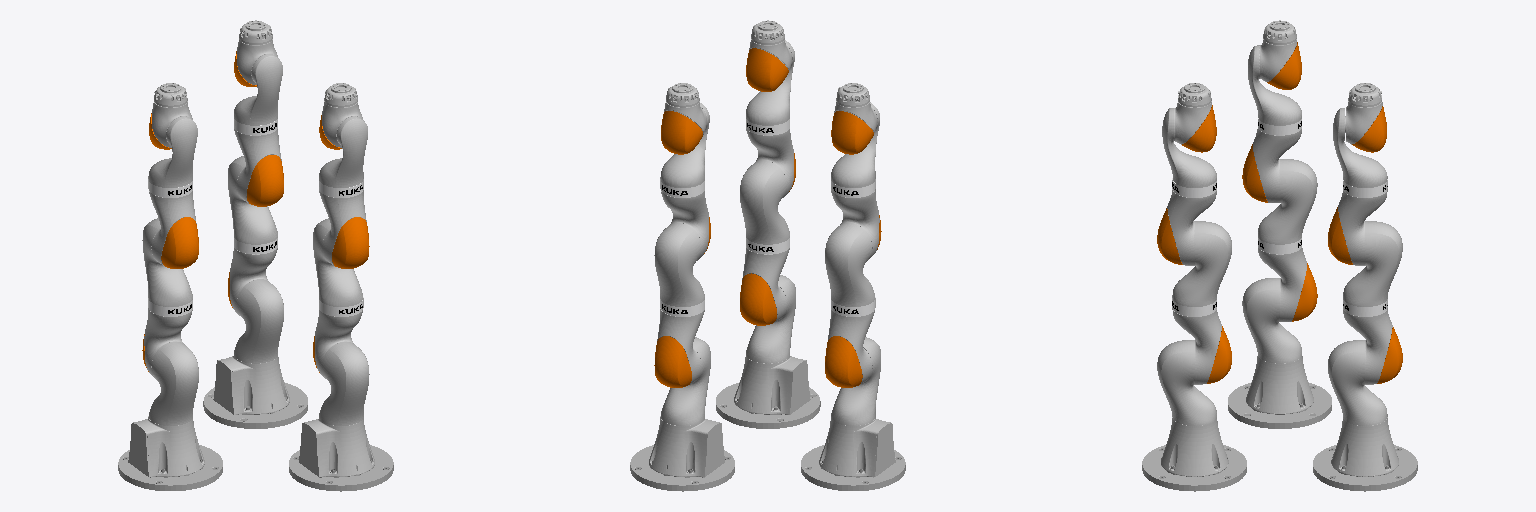
--- What the picture shows (computed from the rendered views, not written in the file) ---
The picture shows the robot from 3 angles, left to right: view 1: azimuth 30°, elevation 25°; view 2: azimuth 150°, elevation 25°; view 3: azimuth 270°, elevation 25°; orthographic projection.
Model main with 32 links and 31 joints (21 revolute, 10 fixed), rooted at world, posed every joint at zero.
Links seen in each view (by area): view 1: iiwa_link_0_r0, iiwa_link_0_r1, iiwa_link_0_r2, iiwa_link_1_r1, iiwa_link_1_r2, iiwa_link_1_r0, iiwa_link_4_r1, iiwa_link_4_r0, iiwa_link_4_r2, iiwa_link_5_r0, iiwa_link_5_r1, iiwa_link_5_r2 (+15 smaller); view 2: iiwa_link_3_r2, iiwa_link_3_r0, iiwa_link_3_r1, iiwa_link_0_r2, iiwa_link_0_r0, iiwa_link_0_r1, iiwa_link_2_r2, iiwa_link_2_r1, iiwa_link_2_r0, iiwa_link_1_r0, iiwa_link_1_r2, iiwa_link_1_r1 (+15 smaller); view 3: iiwa_link_3_r2, iiwa_link_3_r0, iiwa_link_3_r1, iiwa_link_1_r1, iiwa_link_1_r0, iiwa_link_1_r2, iiwa_link_0_r2, iiwa_link_0_r0, iiwa_link_0_r1, iiwa_link_2_r2, iiwa_link_4_r1, iiwa_link_2_r0 (+15 smaller).
Boxes of the visible links, box(x1,y1,x2,y2) form: iiwa_link_0_r0: box(128, 416, 204, 477); iiwa_link_0_r1: box(299, 417, 374, 477); iiwa_link_0_r2: box(213, 356, 289, 414); iiwa_link_1_r1: box(319, 342, 369, 425); iiwa_link_1_r2: box(234, 279, 283, 363); iiwa_link_1_r0: box(149, 342, 198, 425); iiwa_link_4_r1: box(319, 189, 369, 268); iiwa_link_4_r0: box(149, 191, 198, 268); iiwa_link_4_r2: box(234, 129, 283, 206); iiwa_link_5_r0: box(148, 116, 197, 197); iiwa_link_5_r1: box(319, 116, 367, 197); iiwa_link_5_r2: box(234, 54, 282, 135); iiwa_link_3_r2: box(654, 223, 704, 316); iiwa_link_3_r0: box(825, 223, 875, 316); iiwa_link_3_r1: box(740, 160, 789, 254); iiwa_link_0_r2: box(649, 416, 724, 477); iiwa_link_0_r0: box(819, 417, 895, 477); iiwa_link_0_r1: box(734, 356, 810, 414); iiwa_link_2_r2: box(654, 308, 704, 387); iiwa_link_2_r1: box(740, 248, 789, 325); iiwa_link_2_r0: box(825, 310, 874, 387); iiwa_link_1_r0: box(831, 337, 880, 425); iiwa_link_1_r2: box(661, 337, 710, 425); iiwa_link_1_r1: box(746, 275, 795, 363); iiwa_link_3_r2: box(1343, 221, 1402, 316); iiwa_link_3_r0: box(1258, 159, 1317, 254); iiwa_link_3_r1: box(1172, 221, 1231, 316); iiwa_link_1_r1: box(1157, 340, 1216, 425); iiwa_link_1_r0: box(1242, 278, 1301, 363); iiwa_link_1_r2: box(1328, 340, 1387, 425); iiwa_link_0_r2: box(1331, 417, 1398, 476); iiwa_link_0_r0: box(1246, 356, 1313, 414); iiwa_link_0_r1: box(1161, 417, 1228, 476); iiwa_link_2_r2: box(1343, 308, 1402, 384); iiwa_link_4_r1: box(1157, 189, 1216, 265); iiwa_link_2_r0: box(1258, 248, 1317, 321).
Bounding box of the posed robot: 0.77 × 0.84 × 1.29 m (x, y, z).
27 mesh visuals loaded from 10 distinct referenced files (9 Collada DAE); not drawn: 1 (reference not matched to a file when rendering).

URDF robot description (main):
<?xml version="1.0" ?>
<robot name="main">
  <link name="world"/>
  <joint name="table_joint" type="fixed">
    <parent link="world"/>
    <child link="table"/>
    <origin rpy="0 0 0" xyz="0 0 0"/>
  </joint>
  <link name="table">
    <inertial>
      <origin rpy="0 0 0" xyz="0 0 -0.18746"/>
      <mass value="600"/>
      <inertia ixx="152.284" ixy="0" ixz="0" iyy="207.558" iyz="0" izz="288.142"/>
    </inertial>
    <visual>
      <origin rpy="0 0 1.5707963267948966" xyz="0 0 0"/>
      <geometry>
        <mesh filename="package://safemotions/description/meshes/misc/visual/table.dae"/>
      </geometry>
    </visual>
    <collision>
      <origin rpy="0 0 0" xyz="0 0 -0.1"/>
      <geometry>
        <box size="1.2 1.6 0.2"/>
      </geometry>
    </collision>
  </link>
  <joint name="base_adapter_joint_r0" type="fixed">
    <parent link="world"/>
    <child link="iiwa_base_adapter_r0"/>
    <origin rpy="0 0 0" xyz="-0.3 0.0 0"/>
  </joint>
  <link name="iiwa_base_adapter_r0">
    <inertial>
      <origin rpy="0 0 0" xyz="0 0 0"/>
      <mass value="1"/>
      <inertia ixx="1" ixy="0" ixz="0" iyy="1" iyz="0" izz="1"/>
    </inertial>
    <visual>
      <origin rpy="0 0 0" xyz="0 0 0"/>
      <geometry>
        <mesh filename="package://safemotions/description/meshes/misc/visual/base_adapter.dae"/>
      </geometry>
    </visual>
    <collision>
      <origin rpy="0 0 0" xyz="0 0 0.01"/>
      <geometry>
        <cylinder length="0.02" radius="0.16"/>
      </geometry>
    </collision>
  </link>
  <joint name="iiwa_base_adapter_iiwa_joint_r0" type="fixed">
    <origin rpy="0 0 0" xyz="0 0 0.02"/>
    <parent link="iiwa_base_adapter_r0"/>
    <child link="iiwa_link_0_r0"/>
  </joint>
  <link name="iiwa_link_0_r0">
    <inertial>
      <origin rpy="0 0 0" xyz="-0.01 0 0.07"/>
      <mass value="5"/>
      <inertia ixx="0.05" ixy="0" ixz="0" iyy="0.06" iyz="0" izz="0.03"/>
    </inertial>
    <visual>
      <geometry>
        <mesh filename="package://safemotions/description/meshes/iiwa7/visual/base.dae"/>
      </geometry>
    </visual>
    <collision>
      <geometry>
        <mesh filename="package://safemotions/description/meshes/iiwa7/collision/base.stl"/>
      </geometry>
    </collision>
    <self_collision_checking>
      <origin rpy="0 0 0" xyz="0 0 0"/>
      <geometry>
        <capsule length="0.25" radius="0.15"/>
      </geometry>
    </self_collision_checking>
  </link>
  <joint name="iiwa_joint_1_r0" type="revolute">
    <parent link="iiwa_link_0_r0"/>
    <child link="iiwa_link_1_r0"/>
    <origin rpy="0 0 0" xyz="0 0 0.157"/>
    <axis xyz="0 0 1"/>
    <limit effort="176" lower="-2.9670597283903604" upper="2.9670597283903604" velocity="1.710422666954443"/>
    <safety_controller k_position="100" k_velocity="2" soft_lower_limit="-2.9321531433504737" soft_upper_limit="2.9321531433504737"/>
    <dynamics damping="0.5"/>
  </joint>
  <link name="iiwa_link_1_r0">
    <inertial>
      <origin rpy="0 0 0" xyz="0 -0.03 0.12"/>
      <mass value="3.4525"/>
      <inertia ixx="0.02183" ixy="0" ixz="0" iyy="0.02081" iyz="0.003883" izz="0.007697"/>
    </inertial>
    <visual>
      <geometry>
        <mesh filename="package://safemotions/description/meshes/iiwa7/visual/link1.dae"/>
      </geometry>
    </visual>
    <collision>
      <geometry>
        <mesh filename="package://safemotions/description/meshes/iiwa7/collision/link1.stl"/>
      </geometry>
    </collision>
  </link>
  <joint name="iiwa_joint_2_r0" type="revolute">
    <parent link="iiwa_link_1_r0"/>
    <child link="iiwa_link_2_r0"/>
    <origin rpy="0 0 0" xyz="0 0 0.183"/>
    <axis xyz="0 1 0"/>
    <limit effort="176" lower="-2.0943951023931953" upper="2.0943951023931953" velocity="1.710422666954443"/>
    <safety_controller k_position="100" k_velocity="2" soft_lower_limit="-2.0594885173533086" soft_upper_limit="2.0594885173533086"/>
    <dynamics damping="0.5"/>
  </joint>
  <link name="iiwa_link_2_r0">
    <inertial>
      <origin rpy="0 0 0" xyz="0.000 0.034417 0.0673286"/>
      <mass value="3.4821"/>
      <inertia ixx="0.02177" ixy="0" ixz="0.00" iyy="0.02075" iyz="0.003621" izz="0.00779"/>
    </inertial>
    <visual>
      <geometry>
        <mesh filename="package://safemotions/description/meshes/iiwa7/visual/link2.dae"/>
      </geometry>
    </visual>
    <collision>
      <geometry>
        <mesh filename="package://safemotions/description/meshes/iiwa7/collision/link2.stl"/>
      </geometry>
    </collision>
  </link>
  <joint name="iiwa_joint_3_r0" type="revolute">
    <parent link="iiwa_link_2_r0"/>
    <child link="iiwa_link_3_r0"/>
    <origin rpy="0 0 0" xyz="0 0 0.185"/>
    <axis xyz="0 0 1"/>
    <limit effort="110" lower="-2.9670597283903604" upper="2.9670597283903604" velocity="1.7453292519943295"/>
    <safety_controller k_position="100" k_velocity="2" soft_lower_limit="-2.9321531433504737" soft_upper_limit="2.9321531433504737"/>
    <dynamics damping="0.5"/>
  </joint>
  <link name="iiwa_link_3_r0">
    <inertial>
      <origin rpy="0 0 0" xyz="0 0.0295 0.1258"/>
      <mass value="4.05623"/>
      <inertia ixx="0.03204" ixy="0" ixz="0" iyy="0.03044" iyz="-0.006231" izz="0.009726"/>
    </inertial>
    <visual>
      <geometry>
        <mesh filename="package://safemotions/description/meshes/iiwa7/visual/link3.dae"/>
      </geometry>
    </visual>
    <collision>
      <geometry>
        <mesh filename="package://safemotions/description/meshes/iiwa7/collision/link3.stl"/>
      </geometry>
    </collision>
  </link>
  <joint name="iiwa_joint_4_r0" type="revolute">
    <parent link="iiwa_link_3_r0"/>
    <child link="iiwa_link_4_r0"/>
    <origin rpy="0 0 0" xyz="0 0 0.215"/>
    <axis xyz="0 -1 0"/>
    <limit effort="110" lower="-2.0943951023931953" upper="2.0943951023931953" velocity="2.2689280275926285"/>
    <safety_controller k_position="100" k_velocity="2" soft_lower_limit="-2.0594885173533086" soft_upper_limit="2.0594885173533086"/>
    <dynamics damping="0.5"/>
  </joint>
  <link name="iiwa_link_4_r0">
    <inertial>
      <origin rpy="0 0 0" xyz="0 -0.034 0.067"/>
      <mass value="3.4822"/>
      <inertia ixx="0.021775" ixy="0" ixz="0" iyy="0.02075" iyz="-0.003621" izz="0.007783"/>
    </inertial>
    <visual>
      <geometry>
        <mesh filename="package://safemotions/description/meshes/iiwa7/visual/link4.dae"/>
      </geometry>
    </visual>
    <collision>
      <geometry>
        <mesh filename="package://safemotions/description/meshes/iiwa7/collision/link4.stl"/>
      </geometry>
    </collision>
  </link>
  <joint name="iiwa_joint_5_r0" type="revolute">
    <parent link="iiwa_link_4_r0"/>
    <child link="iiwa_link_5_r0"/>
    <origin rpy="0 0 0" xyz="0 0 0.4"/>
    <axis xyz="0 0 1"/>
    <limit effort="110" lower="-2.9670597283903604" upper="2.9670597283903604" velocity="2.443460952792061"/>
    <safety_controller k_position="100" k_velocity="2" soft_lower_limit="-2.9321531433504737" soft_upper_limit="2.9321531433504737"/>
    <dynamics damping="0.5"/>
  </joint>
  <link name="iiwa_link_5_r0">
    <inertial>
      <origin rpy="0 0 0" xyz="0.0001 -0.02263 -0.1365"/>
      <mass value="2.1633"/>
      <inertia ixx="0.01287" ixy="0" ixz="0" iyy="0.01112" iyz="0.003943" izz="0.0057128"/>
    </inertial>
    <visual>
      <geometry>
        <mesh filename="package://safemotions/description/meshes/iiwa7/visual/link5.dae"/>
      </geometry>
    </visual>
    <collision>
      <geometry>
        <mesh filename="package://safemotions/description/meshes/iiwa7/collision/link5.stl"/>
      </geometry>
    </collision>
  </link>
  <joint name="iiwa_joint_6_r0" type="revolute">
    <parent link="iiwa_link_5_r0"/>
    <child link="iiwa_link_6_r0"/>
    <origin rpy="0 0 0" xyz="0 0 0"/>
    <axis xyz="0 1 0"/>
    <limit effort="40" lower="-2.0943951023931953" upper="2.0943951023931953" velocity="3.141592653589793"/>
    <safety_controller k_position="100" k_velocity="2" soft_lower_limit="-2.0594885173533086" soft_upper_limit="2.0594885173533086"/>
    <dynamics damping="0.5"/>
  </joint>
  <link name="iiwa_link_6_r0">
    <inertial>
      <origin rpy="0 0 0" xyz="0 0.00047 0.002124"/>
      <mass value="2.3466"/>
      <inertia ixx="0.006522" ixy="0" ixz="0" iyy="0.006270" iyz="0.00032280" izz="0.0045345"/>
    </inertial>
    <visual>
      <geometry>
        <mesh filename="package://safemotions/description/meshes/iiwa7/visual/link6.dae"/>
      </geometry>
    </visual>
    <collision>
      <geometry>
        <mesh filename="package://safemotions/description/meshes/iiwa7/collision/link6.stl"/>
      </geometry>
    </collision>
  </link>
  <joint name="iiwa_joint_7_r0" type="revolute">
    <parent link="iiwa_link_6_r0"/>
    <child link="iiwa_link_7_r0"/>
    <origin rpy="0 0 0" xyz="0 0 0"/>
    <axis xyz="0 0 1"/>
    <limit effort="40" lower="-3.0543261909900763" upper="3.0543261909900763" velocity="3.141592653589793"/>
    <safety_controller k_position="100" k_velocity="2" soft_lower_limit="-3.01941960595019" soft_upper_limit="3.01941960595019"/>
    <dynamics damping="0.5"/>
  </joint>
  <link name="iiwa_link_7_r0">
    <inertial>
      <origin rpy="0 0 0" xyz="0 0 0.1"/>
      <mass value="3.129"/>
      <inertia ixx="0.0022711" ixy="0.0000221" ixz="0" iyy="0.0022807" iyz="0" izz="0.002872"/>
    </inertial>
    <visual>
      <geometry>
        <mesh filename="package://safemotions/description/meshes/iiwa7/visual/link7.dae"/>
      </geometry>
    </visual>
    <collision>
      <geometry>
        <mesh filename="package://safemotions/description/meshes/iiwa7/collision/link7.stl"/>
      </geometry>
    </collision>
  </link>
  <joint name="iiwa_joint_ee_r0" type="fixed">
    <parent link="iiwa_link_7_r0"/>
    <child link="iiwa_link_ee_r0"/>
    <origin rpy="0 0 0" xyz="0 0 0.126"/>
  </joint>
  <link name="iiwa_link_ee_r0">
    <inertial>
      <origin rpy="0 0 0" xyz="0 0 0"/>
      <mass value="1"/>
      <inertia ixx="1" ixy="0" ixz="0" iyy="1" iyz="0" izz="1"/>
    </inertial>
  </link>
<!-- second robot -->
<joint name="base_adapter_joint_r1" type="fixed">
    <parent link="world"/>
    <child link="iiwa_base_adapter_r1"/>
    <origin rpy="0 0 0" xyz="0.15 -0.26 0"/>
  </joint>
  <link name="iiwa_base_adapter_r1">
    <inertial>
      <origin rpy="0 0 0" xyz="0 0 0"/>
      <mass value="1"/>
      <inertia ixx="1" ixy="0" ixz="0" iyy="1" iyz="0" izz="1"/>
    </inertial>
    <visual>
      <origin rpy="0 0 0" xyz="0 0 0"/>
      <geometry>
        <mesh filename="package://safemotions/description/meshes/misc/visual/base_adapter.dae"/>
      </geometry>
    </visual>
    <collision>
      <origin rpy="0 0 0" xyz="0 0 0.01"/>
      <geometry>
        <cylinder length="0.02" radius="0.16"/>
      </geometry>
    </collision>
  </link>
  <joint name="iiwa_base_adapter_iiwa_joint_r1" type="fixed">
    <origin rpy="0 0 0" xyz="0 0 0.02"/>
    <parent link="iiwa_base_adapter_r1"/>
    <child link="iiwa_link_0_r1"/>
  </joint>
  <link name="iiwa_link_0_r1">
    <inertial>
      <origin rpy="0 0 0" xyz="-0.01 0 0.07"/>
      <mass value="5"/>
      <inertia ixx="0.05" ixy="0" ixz="0" iyy="0.06" iyz="0" izz="0.03"/>
    </inertial>
    <visual>
      <geometry>
        <mesh filename="package://safemotions/description/meshes/iiwa7/visual/base.dae"/>
      </geometry>
    </visual>
    <collision>
      <geometry>
        <mesh filename="package://safemotions/description/meshes/iiwa7/collision/base.stl"/>
      </geometry>
    </collision>
    <self_collision_checking>
      <origin rpy="0 0 0" xyz="0 0 0"/>
      <geometry>
        <capsule length="0.25" radius="0.15"/>
      </geometry>
    </self_collision_checking>
  </link>
  <joint name="iiwa_joint_1_r1" type="revolute">
    <parent link="iiwa_link_0_r1"/>
    <child link="iiwa_link_1_r1"/>
    <origin rpy="0 0 0" xyz="0 0 0.157"/>
    <axis xyz="0 0 1"/>
    <limit effort="176" lower="-2.9670597283903604" upper="2.9670597283903604" velocity="1.710422666954443"/>
    <safety_controller k_position="100" k_velocity="2" soft_lower_limit="-2.9321531433504737" soft_upper_limit="2.9321531433504737"/>
    <dynamics damping="0.5"/>
  </joint>
  <link name="iiwa_link_1_r1">
    <inertial>
      <origin rpy="0 0 0" xyz="0 -0.03 0.12"/>
      <mass value="3.4525"/>
      <inertia ixx="0.02183" ixy="0" ixz="0" iyy="0.02081" iyz="0.003883" izz="0.007697"/>
    </inertial>
    <visual>
      <geometry>
        <mesh filename="package://safemotions/description/meshes/iiwa7/visual/link1.dae"/>
      </geometry>
    </visual>
    <collision>
      <geometry>
        <mesh filename="package://safemotions/description/meshes/iiwa7/collision/link1.stl"/>
      </geometry>
    </collision>
  </link>
  <joint name="iiwa_joint_2_r1" type="revolute">
    <parent link="iiwa_link_1_r1"/>
    <child link="iiwa_link_2_r1"/>
    <origin rpy="0 0 0" xyz="0 0 0.183"/>
    <axis xyz="0 1 0"/>
    <limit effort="176" lower="-2.0943951023931953" upper="2.0943951023931953" velocity="1.710422666954443"/>
    <safety_controller k_position="100" k_velocity="2" soft_lower_limit="-2.0594885173533086" soft_upper_limit="2.0594885173533086"/>
    <dynamics damping="0.5"/>
  </joint>
  <link name="iiwa_link_2_r1">
    <inertial>
      <origin rpy="0 0 0" xyz="0.000 0.034417 0.0673286"/>
      <mass value="3.4821"/>
      <inertia ixx="0.02177" ixy="0" ixz="0.00" iyy="0.02075" iyz="0.003621" izz="0.00779"/>
    </inertial>
    <visual>
      <geometry>
        <mesh filename="package://safemotions/description/meshes/iiwa7/visual/link2.dae"/>
      </geometry>
    </visual>
    <collision>
      <geometry>
        <mesh filename="package://safemotions/description/meshes/iiwa7/collision/link2.stl"/>
      </geometry>
    </collision>
  </link>
  <joint name="iiwa_joint_3_r1" type="revolute">
    <parent link="iiwa_link_2_r1"/>
    <child link="iiwa_link_3_r1"/>
    <origin rpy="0 0 0" xyz="0 0 0.185"/>
    <axis xyz="0 0 1"/>
    <limit effort="110" lower="-2.9670597283903604" upper="2.9670597283903604" velocity="1.7453292519943295"/>
    <safety_controller k_position="100" k_velocity="2" soft_lower_limit="-2.9321531433504737" soft_upper_limit="2.9321531433504737"/>
    <dynamics damping="0.5"/>
  </joint>
  <link name="iiwa_link_3_r1">
    <inertial>
      <origin rpy="0 0 0" xyz="0 0.0295 0.1258"/>
      <mass value="4.05623"/>
      <inertia ixx="0.03204" ixy="0" ixz="0" iyy="0.03044" iyz="-0.006231" izz="0.009726"/>
    </inertial>
    <visual>
      <geometry>
        <mesh filename="package://safemotions/description/meshes/iiwa7/visual/link3.dae"/>
      </geometry>
    </visual>
    <collision>
      <geometry>
        <mesh filename="package://safemotions/description/meshes/iiwa7/collision/link3.stl"/>
      </geometry>
    </collision>
  </link>
  <joint name="iiwa_joint_4_r1" type="revolute">
    <parent link="iiwa_link_3_r1"/>
    <child link="iiwa_link_4_r1"/>
    <origin rpy="0 0 0" xyz="0 0 0.215"/>
    <axis xyz="0 -1 0"/>
    <limit effort="110" lower="-2.0943951023931953" upper="2.0943951023931953" velocity="2.2689280275926285"/>
    <safety_controller k_position="100" k_velocity="2" soft_lower_limit="-2.0594885173533086" soft_upper_limit="2.0594885173533086"/>
    <dynamics damping="0.5"/>
  </joint>
  <link name="iiwa_link_4_r1">
    <inertial>
      <origin rpy="0 0 0" xyz="0 -0.034 0.067"/>
      <mass value="3.4822"/>
      <inertia ixx="0.021775" ixy="0" ixz="0" iyy="0.02075" iyz="-0.003621" izz="0.007783"/>
    </inertial>
    <visual>
      <geometry>
        <mesh filename="package://safemotions/description/meshes/iiwa7/visual/link4.dae"/>
      </geometry>
    </visual>
    <collision>
      <geometry>
        <mesh filename="package://safemotions/description/meshes/iiwa7/collision/link4.stl"/>
      </geometry>
    </collision>
  </link>
  <joint name="iiwa_joint_5_r1" type="revolute">
    <parent link="iiwa_link_4_r1"/>
    <child link="iiwa_link_5_r1"/>
    <origin rpy="0 0 0" xyz="0 0 0.4"/>
    <axis xyz="0 0 1"/>
    <limit effort="110" lower="-2.9670597283903604" upper="2.9670597283903604" velocity="2.443460952792061"/>
    <safety_controller k_position="100" k_velocity="2" soft_lower_limit="-2.9321531433504737" soft_upper_limit="2.9321531433504737"/>
    <dynamics damping="0.5"/>
  </joint>
  <link name="iiwa_link_5_r1">
    <inertial>
      <origin rpy="0 0 0" xyz="0.0001 -0.02263 -0.1365"/>
      <mass value="2.1633"/>
      <inertia ixx="0.01287" ixy="0" ixz="0" iyy="0.01112" iyz="0.003943" izz="0.0057128"/>
    </inertial>
    <visual>
      <geometry>
        <mesh filename="package://safemotions/description/meshes/iiwa7/visual/link5.dae"/>
      </geometry>
    </visual>
    <collision>
      <geometry>
        <mesh filename="package://safemotions/description/meshes/iiwa7/collision/link5.stl"/>
      </geometry>
    </collision>
  </link>
  <joint name="iiwa_joint_6_r1" type="revolute">
    <parent link="iiwa_link_5_r1"/>
    <child link="iiwa_link_6_r1"/>
    <origin rpy="0 0 0" xyz="0 0 0"/>
    <axis xyz="0 1 0"/>
    <limit effort="40" lower="-2.0943951023931953" upper="2.0943951023931953" velocity="3.141592653589793"/>
    <safety_controller k_position="100" k_velocity="2" soft_lower_limit="-2.0594885173533086" soft_upper_limit="2.0594885173533086"/>
    <dynamics damping="0.5"/>
  </joint>
  <link name="iiwa_link_6_r1">
    <inertial>
      <origin rpy="0 0 0" xyz="0 0.00047 0.002124"/>
      <mass value="2.3466"/>
      <inertia ixx="0.006522" ixy="0" ixz="0" iyy="0.006270" iyz="0.00032280" izz="0.0045345"/>
    </inertial>
    <visual>
      <geometry>
        <mesh filename="package://safemotions/description/meshes/iiwa7/visual/link6.dae"/>
      </geometry>
    </visual>
    <collision>
      <geometry>
        <mesh filename="package://safemotions/description/meshes/iiwa7/collision/link6.stl"/>
      </geometry>
    </collision>
  </link>
  <joint name="iiwa_joint_7_r1" type="revolute">
    <parent link="iiwa_link_6_r1"/>
    <child link="iiwa_link_7_r1"/>
    <origin rpy="0 0 0" xyz="0 0 0"/>
    <axis xyz="0 0 1"/>
    <limit effort="40" lower="-3.0543261909900763" upper="3.0543261909900763" velocity="3.141592653589793"/>
    <safety_controller k_position="100" k_velocity="2" soft_lower_limit="-3.01941960595019" soft_upper_limit="3.01941960595019"/>
    <dynamics damping="0.5"/>
  </joint>
  <link name="iiwa_link_7_r1">
    <inertial>
      <origin rpy="0 0 0" xyz="0 0 0.1"/>
      <mass value="3.129"/>
      <inertia ixx="0.0022711" ixy="0.0000221" ixz="0" iyy="0.0022807" iyz="0" izz="0.002872"/>
    </inertial>
    <visual>
      <geometry>
        <mesh filename="package://safemotions/description/meshes/iiwa7/visual/link7.dae"/>
      </geometry>
    </visual>
    <collision>
      <geometry>
        <mesh filename="package://safemotions/description/meshes/iiwa7/collision/link7.stl"/>
      </geometry>
    </collision>
  </link>
  <joint name="iiwa_joint_ee_r1" type="fixed">
    <parent link="iiwa_link_7_r1"/>
    <child link="iiwa_link_ee_r1"/>
    <origin rpy="0 0 0" xyz="0 0 0.126"/>
  </joint>
  <link name="iiwa_link_ee_r1">
    <inertial>
      <origin rpy="0 0 0" xyz="0 0 0"/>
      <mass value="1"/>
      <inertia ixx="1" ixy="0" ixz="0" iyy="1" iyz="0" izz="1"/>
    </inertial>
  </link>
<!-- third robot -->
<joint name="base_adapter_joint_r2" type="fixed">
    <parent link="world"/>
    <child link="iiwa_base_adapter_r2"/>
    <origin rpy="0 0 0" xyz="0.15 0.26 0"/>
  </joint>
  <link name="iiwa_base_adapter_r2">
    <inertial>
      <origin rpy="0 0 0" xyz="0 0 0"/>
      <mass value="1"/>
      <inertia ixx="1" ixy="0" ixz="0" iyy="1" iyz="0" izz="1"/>
    </inertial>
    <visual>
      <origin rpy="0 0 0" xyz="0 0 0"/>
      <geometry>
        <mesh filename="package://safemotions/description/meshes/misc/visual/base_adapter.dae"/>
      </geometry>
    </visual>
    <collision>
      <origin rpy="0 0 0" xyz="0 0 0.01"/>
      <geometry>
        <cylinder length="0.02" radius="0.16"/>
      </geometry>
    </collision>
  </link>
  <joint name="iiwa_base_adapter_iiwa_joint_r2" type="fixed">
    <origin rpy="0 0 0" xyz="0 0 0.02"/>
    <parent link="iiwa_base_adapter_r2"/>
    <child link="iiwa_link_0_r2"/>
  </joint>
  <link name="iiwa_link_0_r2">
    <inertial>
      <origin rpy="0 0 0" xyz="-0.01 0 0.07"/>
      <mass value="5"/>
      <inertia ixx="0.05" ixy="0" ixz="0" iyy="0.06" iyz="0" izz="0.03"/>
    </inertial>
    <visual>
      <geometry>
        <mesh filename="package://safemotions/description/meshes/iiwa7/visual/base.dae"/>
      </geometry>
    </visual>
    <collision>
      <geometry>
        <mesh filename="package://safemotions/description/meshes/iiwa7/collision/base.stl"/>
      </geometry>
    </collision>
    <self_collision_checking>
      <origin rpy="0 0 0" xyz="0 0 0"/>
      <geometry>
        <capsule length="0.25" radius="0.15"/>
      </geometry>
    </self_collision_checking>
  </link>
  <joint name="iiwa_joint_1_r2" type="revolute">
    <parent link="iiwa_link_0_r2"/>
    <child link="iiwa_link_1_r2"/>
    <origin rpy="0 0 0" xyz="0 0 0.157"/>
    <axis xyz="0 0 1"/>
    <limit effort="176" lower="-2.9670597283903604" upper="2.9670597283903604" velocity="1.710422666954443"/>
    <safety_controller k_position="100" k_velocity="2" soft_lower_limit="-2.9321531433504737" soft_upper_limit="2.9321531433504737"/>
    <dynamics damping="0.5"/>
  </joint>
  <link name="iiwa_link_1_r2">
    <inertial>
      <origin rpy="0 0 0" xyz="0 -0.03 0.12"/>
      <mass value="3.4525"/>
      <inertia ixx="0.02183" ixy="0" ixz="0" iyy="0.02081" iyz="0.003883" izz="0.007697"/>
    </inertial>
    <visual>
      <geometry>
        <mesh filename="package://safemotions/description/meshes/iiwa7/visual/link1.dae"/>
      </geometry>
    </visual>
    <collision>
      <geometry>
        <mesh filename="package://safemotions/description/meshes/iiwa7/collision/link1.stl"/>
      </geometry>
    </collision>
  </link>
  <joint name="iiwa_joint_2_r2" type="revolute">
    <parent link="iiwa_link_1_r2"/>
    <child link="iiwa_link_2_r2"/>
    <origin rpy="0 0 0" xyz="0 0 0.183"/>
    <axis xyz="0 1 0"/>
    <limit effort="176" lower="-2.0943951023931953" upper="2.0943951023931953" velocity="1.710422666954443"/>
    <safety_controller k_position="100" k_velocity="2" soft_lower_limit="-2.0594885173533086" soft_upper_limit="2.0594885173533086"/>
    <dynamics damping="0.5"/>
  </joint>
  <link name="iiwa_link_2_r2">
    <inertial>
      <origin rpy="0 0 0" xyz="0.000 0.034417 0.0673286"/>
      <mass value="3.4821"/>
      <inertia ixx="0.02177" ixy="0" ixz="0.00" iyy="0.02075" iyz="0.003621" izz="0.00779"/>
    </inertial>
    <visual>
      <geometry>
        <mesh filename="package://safemotions/description/meshes/iiwa7/visual/link2.dae"/>
      </geometry>
    </visual>
    <collision>
      <geometry>
        <mesh filename="package://safemotions/description/meshes/iiwa7/collision/link2.stl"/>
      </geometry>
    </collision>
  </link>
  <joint name="iiwa_joint_3_r2" type="revolute">
    <parent link="iiwa_link_2_r2"/>
    <child link="iiwa_link_3_r2"/>
    <origin rpy="0 0 0" xyz="0 0 0.185"/>
    <axis xyz="0 0 1"/>
    <limit effort="110" lower="-2.9670597283903604" upper="2.9670597283903604" velocity="1.7453292519943295"/>
    <safety_controller k_position="100" k_velocity="2" soft_lower_limit="-2.9321531433504737" soft_upper_limit="2.9321531433504737"/>
    <dynamics damping="0.5"/>
  </joint>
  <link name="iiwa_link_3_r2">
    <inertial>
      <origin rpy="0 0 0" xyz="0 0.0295 0.1258"/>
      <mass value="4.05623"/>
      <inertia ixx="0.03204" ixy="0" ixz="0" iyy="0.03044" iyz="-0.006231" izz="0.009726"/>
    </inertial>
    <visual>
      <geometry>
        <mesh filename="package://safemotions/description/meshes/iiwa7/visual/link3.dae"/>
      </geometry>
    </visual>
    <collision>
      <geometry>
        <mesh filename="package://safemotions/description/meshes/iiwa7/collision/link3.stl"/>
      </geometry>
    </collision>
  </link>
  <joint name="iiwa_joint_4_r2" type="revolute">
    <parent link="iiwa_link_3_r2"/>
    <child link="iiwa_link_4_r2"/>
    <origin rpy="0 0 0" xyz="0 0 0.215"/>
    <axis xyz="0 -1 0"/>
    <limit effort="110" lower="-2.0943951023931953" upper="2.0943951023931953" velocity="2.2689280275926285"/>
    <safety_controller k_position="100" k_velocity="2" soft_lower_limit="-2.0594885173533086" soft_upper_limit="2.0594885173533086"/>
    <dynamics damping="0.5"/>
  </joint>
  <link name="iiwa_link_4_r2">
    <inertial>
      <origin rpy="0 0 0" xyz="0 -0.034 0.067"/>
      <mass value="3.4822"/>
      <inertia ixx="0.021775" ixy="0" ixz="0" iyy="0.02075" iyz="-0.003621" izz="0.007783"/>
    </inertial>
    <visual>
      <geometry>
        <mesh filename="package://safemotions/description/meshes/iiwa7/visual/link4.dae"/>
      </geometry>
    </visual>
    <collision>
      <geometry>
        <mesh filename="package://safemotions/description/meshes/iiwa7/collision/link4.stl"/>
      </geometry>
    </collision>
  </link>
  <joint name="iiwa_joint_5_r2" type="revolute">
    <parent link="iiwa_link_4_r2"/>
    <child link="iiwa_link_5_r2"/>
    <origin rpy="0 0 0" xyz="0 0 0.4"/>
    <axis xyz="0 0 1"/>
    <limit effort="110" lower="-2.9670597283903604" upper="2.9670597283903604" velocity="2.443460952792061"/>
    <safety_controller k_position="100" k_velocity="2" soft_lower_limit="-2.9321531433504737" soft_upper_limit="2.9321531433504737"/>
    <dynamics damping="0.5"/>
  </joint>
  <link name="iiwa_link_5_r2">
    <inertial>
      <origin rpy="0 0 0" xyz="0.0001 -0.02263 -0.1365"/>
      <mass value="2.1633"/>
      <inertia ixx="0.01287" ixy="0" ixz="0" iyy="0.01112" iyz="0.003943" izz="0.0057128"/>
    </inertial>
    <visual>
      <geometry>
        <mesh filename="package://safemotions/description/meshes/iiwa7/visual/link5.dae"/>
      </geometry>
    </visual>
    <collision>
      <geometry>
        <mesh filename="package://safemotions/description/meshes/iiwa7/collision/link5.stl"/>
      </geometry>
    </collision>
  </link>
  <joint name="iiwa_joint_6_r2" type="revolute">
    <parent link="iiwa_link_5_r2"/>
    <child link="iiwa_link_6_r2"/>
    <origin rpy="0 0 0" xyz="0 0 0"/>
    <axis xyz="0 1 0"/>
    <limit effort="40" lower="-2.0943951023931953" upper="2.0943951023931953" velocity="3.141592653589793"/>
    <safety_controller k_position="100" k_velocity="2" soft_lower_limit="-2.0594885173533086" soft_upper_limit="2.0594885173533086"/>
    <dynamics damping="0.5"/>
  </joint>
  <link name="iiwa_link_6_r2">
    <inertial>
      <origin rpy="0 0 0" xyz="0 0.00047 0.002124"/>
      <mass value="2.3466"/>
      <inertia ixx="0.006522" ixy="0" ixz="0" iyy="0.006270" iyz="0.00032280" izz="0.0045345"/>
    </inertial>
    <visual>
      <geometry>
        <mesh filename="package://safemotions/description/meshes/iiwa7/visual/link6.dae"/>
      </geometry>
    </visual>
    <collision>
      <geometry>
        <mesh filename="package://safemotions/description/meshes/iiwa7/collision/link6.stl"/>
      </geometry>
    </collision>
  </link>
  <joint name="iiwa_joint_7_r2" type="revolute">
    <parent link="iiwa_link_6_r2"/>
    <child link="iiwa_link_7_r2"/>
    <origin rpy="0 0 0" xyz="0 0 0"/>
    <axis xyz="0 0 1"/>
    <limit effort="40" lower="-3.0543261909900763" upper="3.0543261909900763" velocity="3.141592653589793"/>
    <safety_controller k_position="100" k_velocity="2" soft_lower_limit="-3.01941960595019" soft_upper_limit="3.01941960595019"/>
    <dynamics damping="0.5"/>
  </joint>
  <link name="iiwa_link_7_r2">
    <inertial>
      <origin rpy="0 0 0" xyz="0 0 0.1"/>
      <mass value="3.129"/>
      <inertia ixx="0.0022711" ixy="0.0000221" ixz="0" iyy="0.0022807" iyz="0" izz="0.002872"/>
    </inertial>
    <visual>
      <geometry>
        <mesh filename="package://safemotions/description/meshes/iiwa7/visual/link7.dae"/>
      </geometry>
    </visual>
    <collision>
      <geometry>
        <mesh filename="package://safemotions/description/meshes/iiwa7/collision/link7.stl"/>
      </geometry>
    </collision>
  </link>
  <joint name="iiwa_joint_ee_r2" type="fixed">
    <parent link="iiwa_link_7_r2"/>
    <child link="iiwa_link_ee_r2"/>
    <origin rpy="0 0 0" xyz="0 0 0.126"/>
  </joint>
  <link name="iiwa_link_ee_r2">
    <inertial>
      <origin rpy="0 0 0" xyz="0 0 0"/>
      <mass value="1"/>
      <inertia ixx="1" ixy="0" ixz="0" iyy="1" iyz="0" izz="1"/>
    </inertial>
  </link>
</robot>
